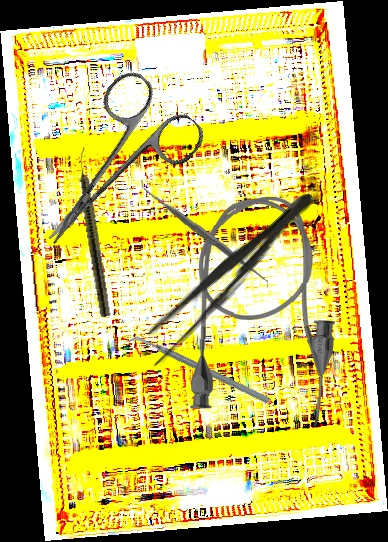Cannula: (189, 195, 337, 427)
Chopper: (124, 293, 273, 447)
Dressing Forceps: (133, 181, 324, 372)
Handpiece: (73, 145, 113, 318)
Iris Scissors: (7, 64, 211, 274)
Spatula Surgical: (141, 173, 268, 295)
